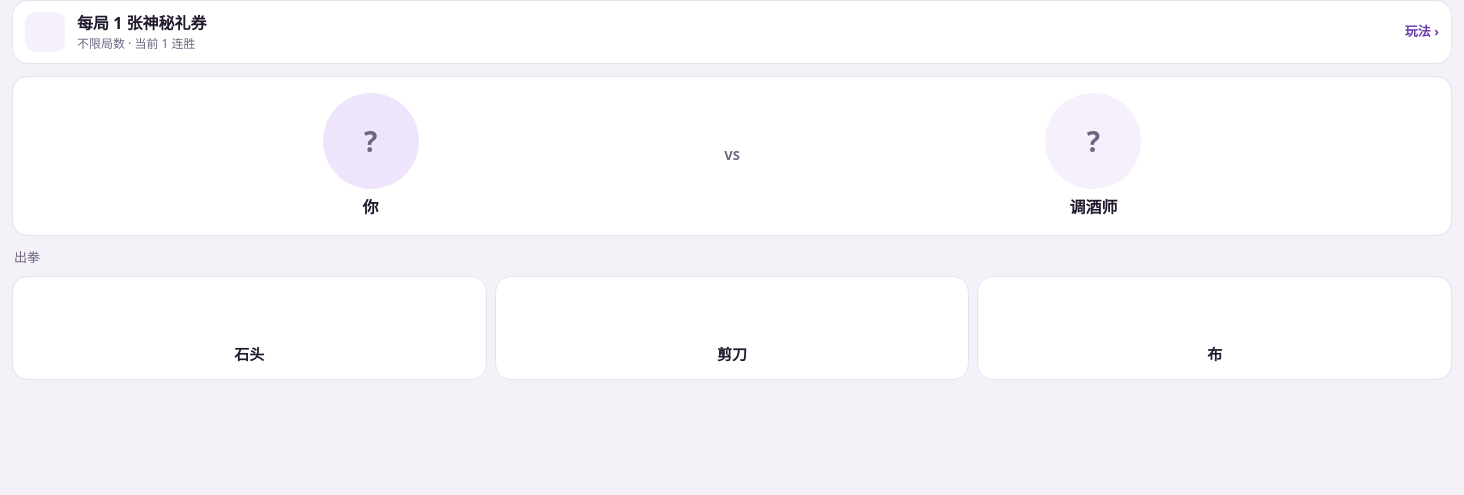
Test: FgPanel › 出拳后显示双方出的拳、胜负和奖励，并通知刷新
The image size is (1464, 495).
expect the text with test id "bar-info-sub" shows "1 连胜": met, box x1=77 y1=35 x2=196 y2=52
Click the button with test id "fg-0" at (249, 328), box x1=12 y1=276 x2=487 y2=380
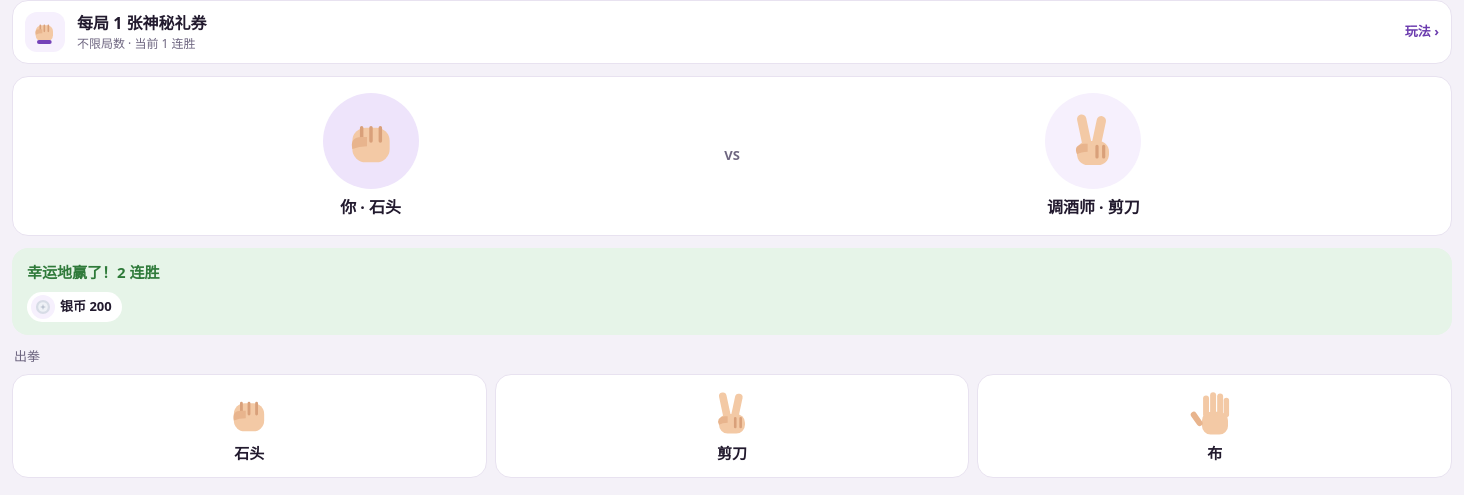
expect the text with test id "fg-me" reads "你 · 石头": met, box x1=340 y1=196 x2=401 y2=218
expect the text with test id "fg-bar" reads "调酒师 · 剪刀": met, box x1=1047 y1=196 x2=1140 y2=218
expect the text "幸运地赢了！2 连胜" is shown: met, box x1=27 y1=262 x2=160 y2=282
